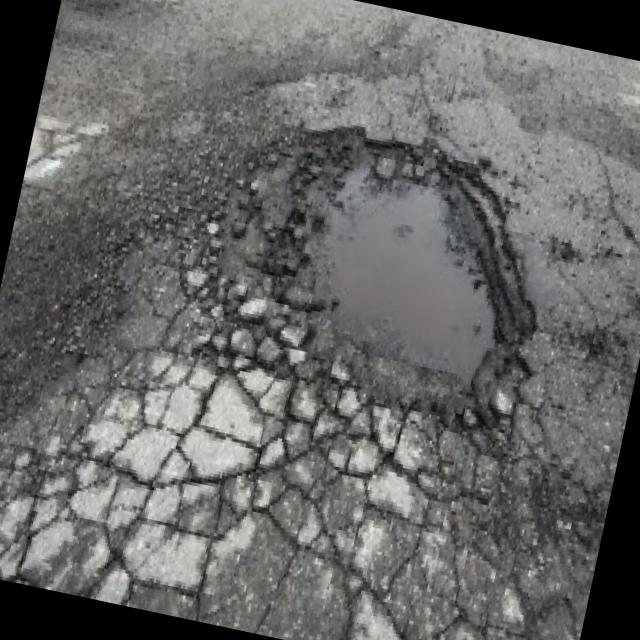Potholes: (193, 68, 600, 473)
